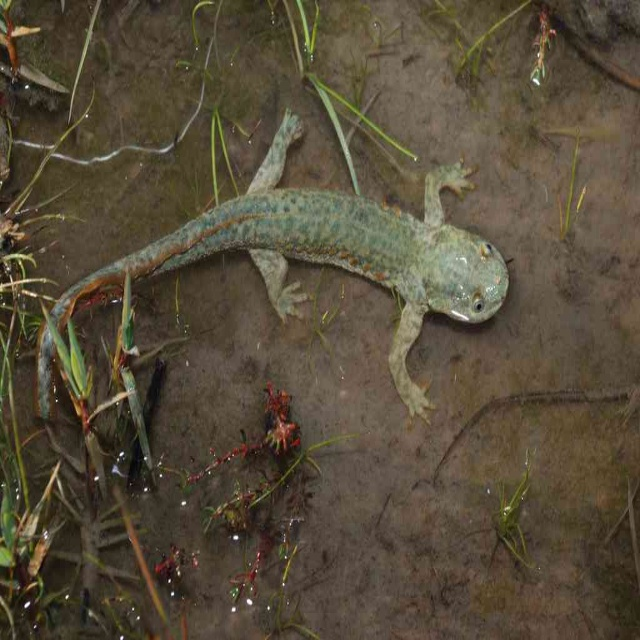Lizard: (35, 104, 509, 433)
